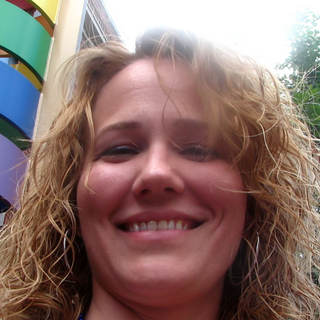eye: (173, 138, 222, 165), (95, 141, 147, 165)
